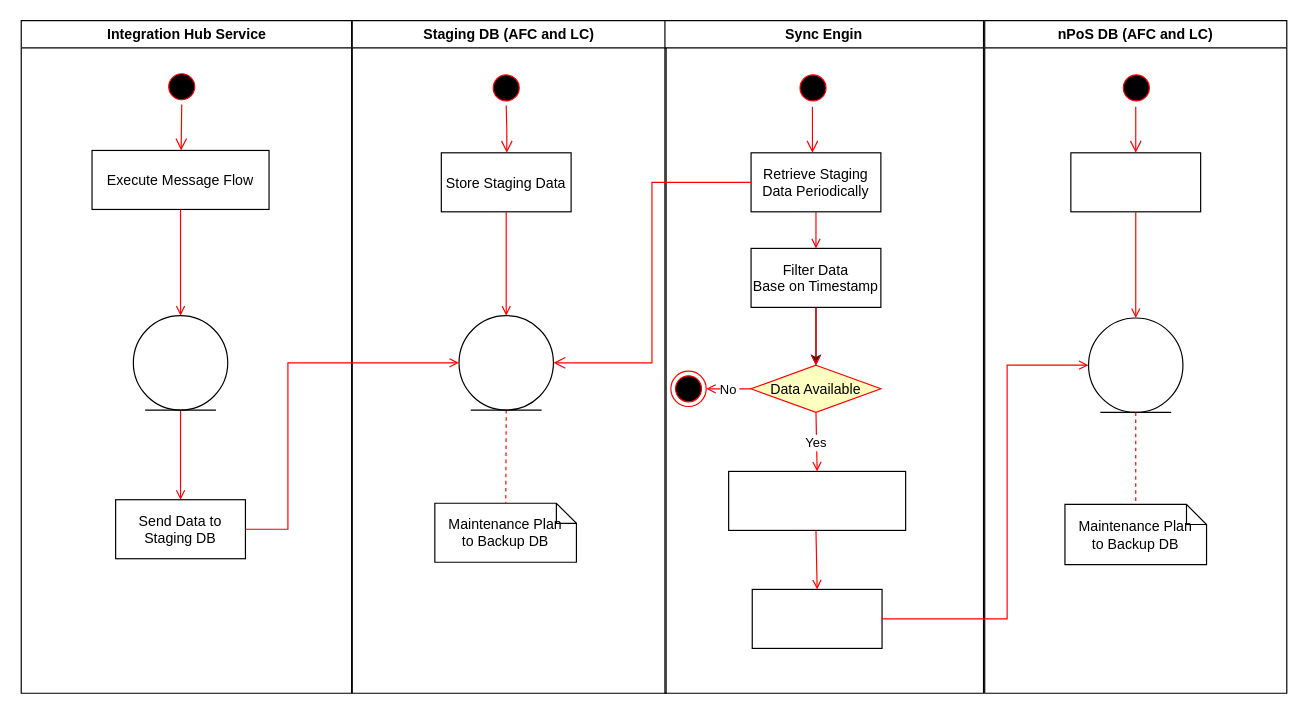
Some shapes in this 1307 by 714 pixel diagram are drawn without their labels. The shapes that lost their labels are listed below. From the top down, each one's centre as x and y in pixels, then its label:
the point at 1135,182: Store Master Data
the point at 180,362: Message Flow
the point at 505,362: Staging Data
the point at 1135,364: Master Data
the point at 816,500: Prepare SQL Command Base On Flag (I, U, D)
the point at 816,618: Execute SQL in nPoS DB
